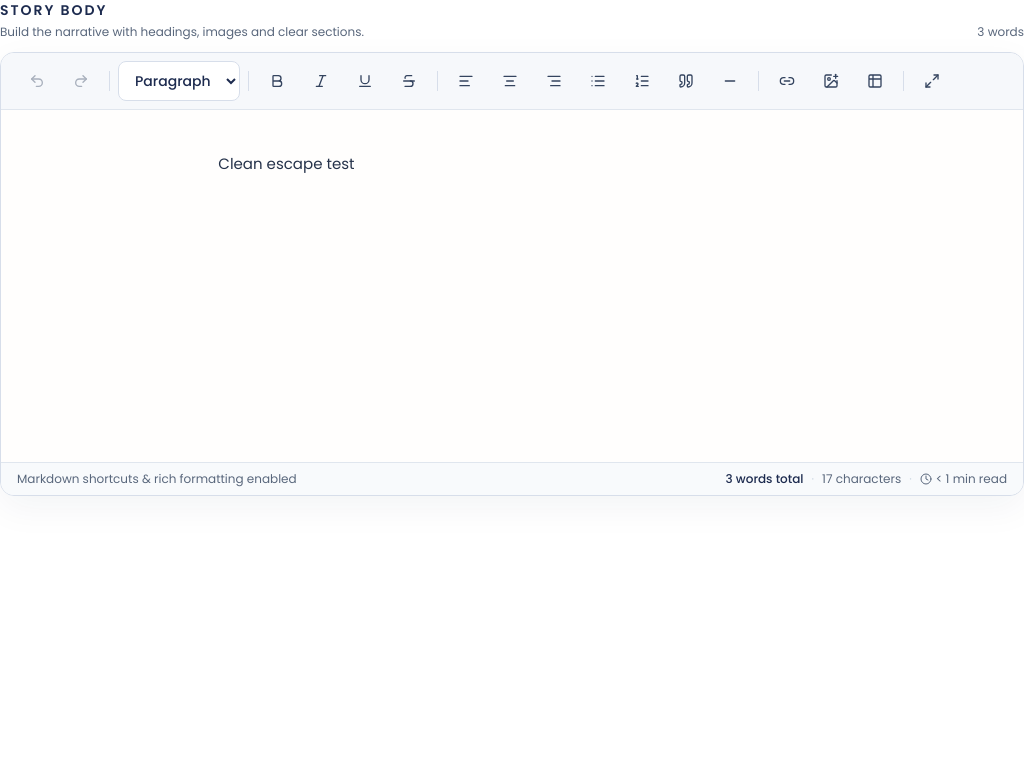
Scenario: StoryRichTextEditor - Empirical Stress Verification (Milestone 1, Iteration 2) › Defect 2: Escape key trap when Link or Image dialog is dismissed in fullscreen mode › exits fullscreen mode when Escape is pressed and NO dialog is open
Click the button named "Fullscreen mode" at (932, 81), box x1=912 y1=61 x2=952 y2=101
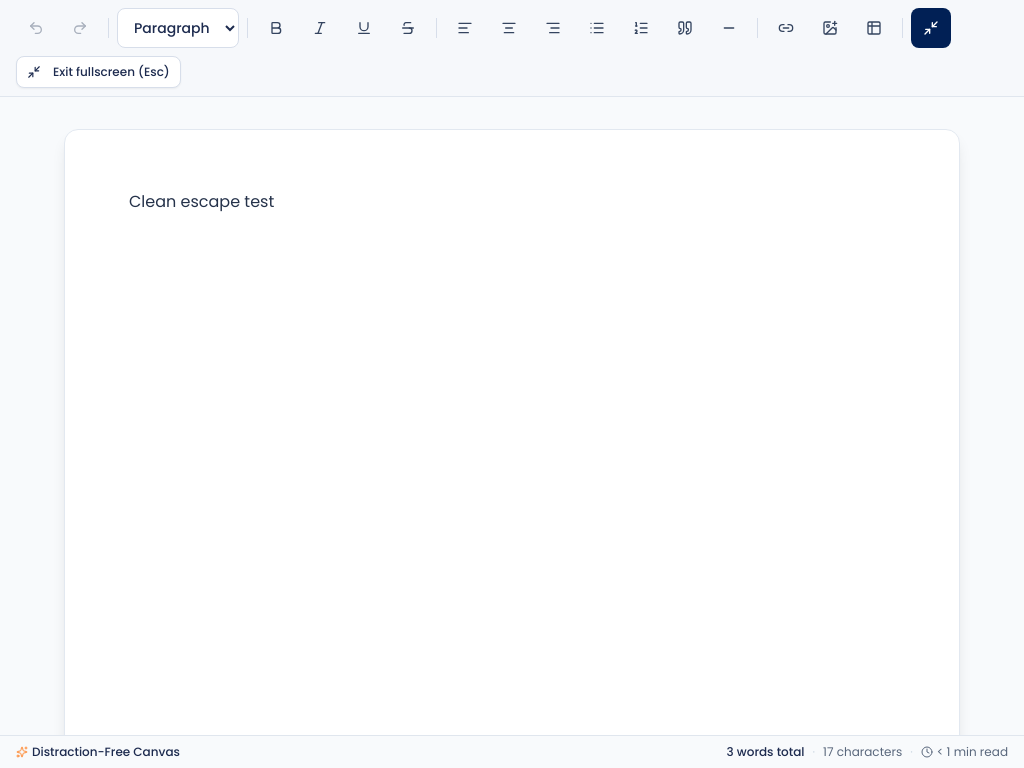
Result: the text "Distraction-Free Canvas" is shown at x1=16 y1=744 x2=180 y2=760
Press Escape without any dialog open
Press Escape
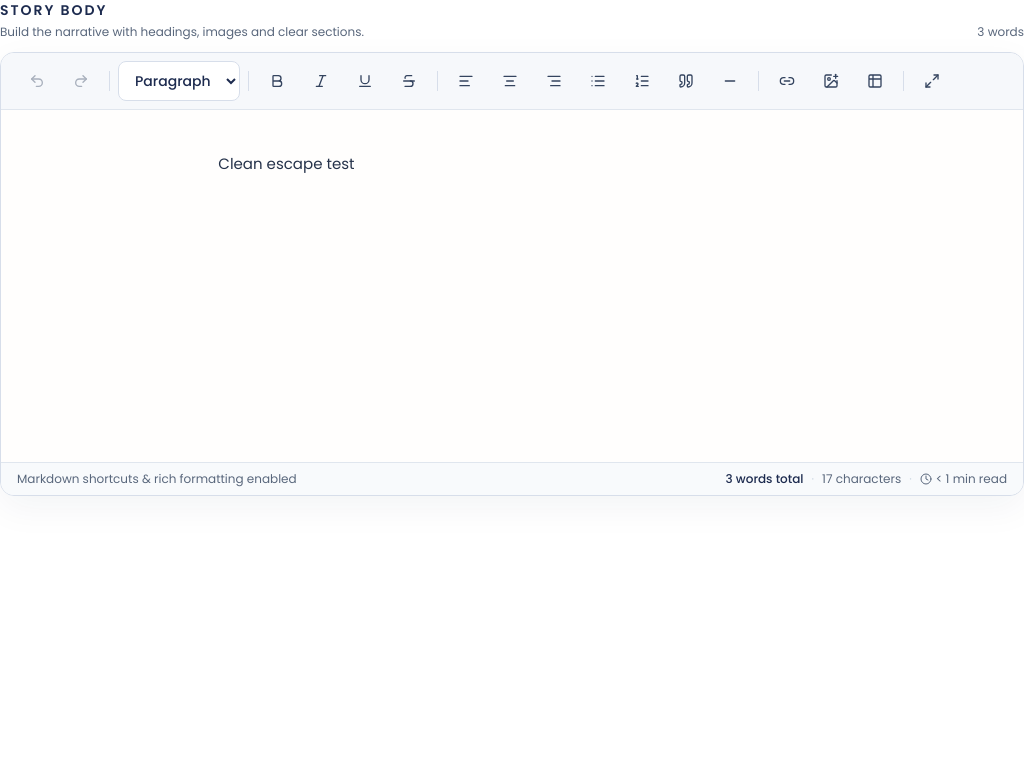
Result: the text "Distraction-Free Canvas" is gone
Result: the button named "Fullscreen mode" is shown at x1=912 y1=61 x2=952 y2=101
